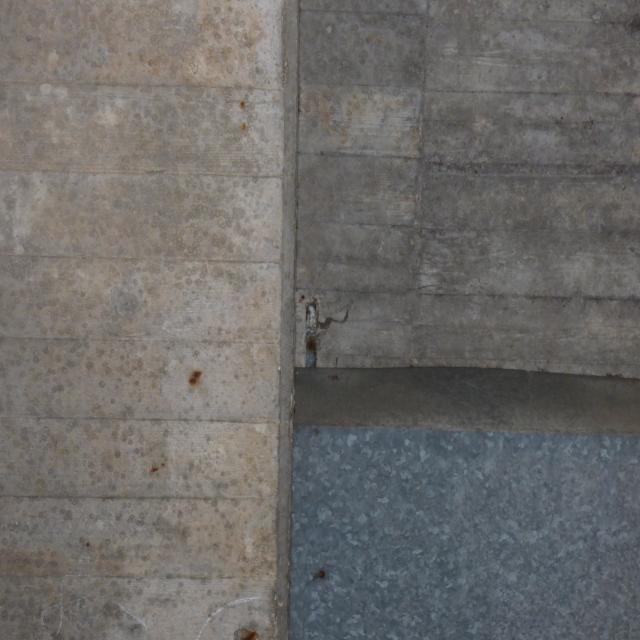corrosion: (292, 293, 343, 388), (184, 362, 209, 398), (230, 618, 266, 640), (235, 92, 251, 138), (146, 457, 173, 481), (316, 567, 330, 580), (84, 538, 93, 552)
